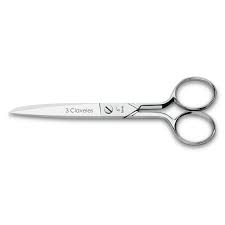tihiras: (7, 74, 219, 150)
